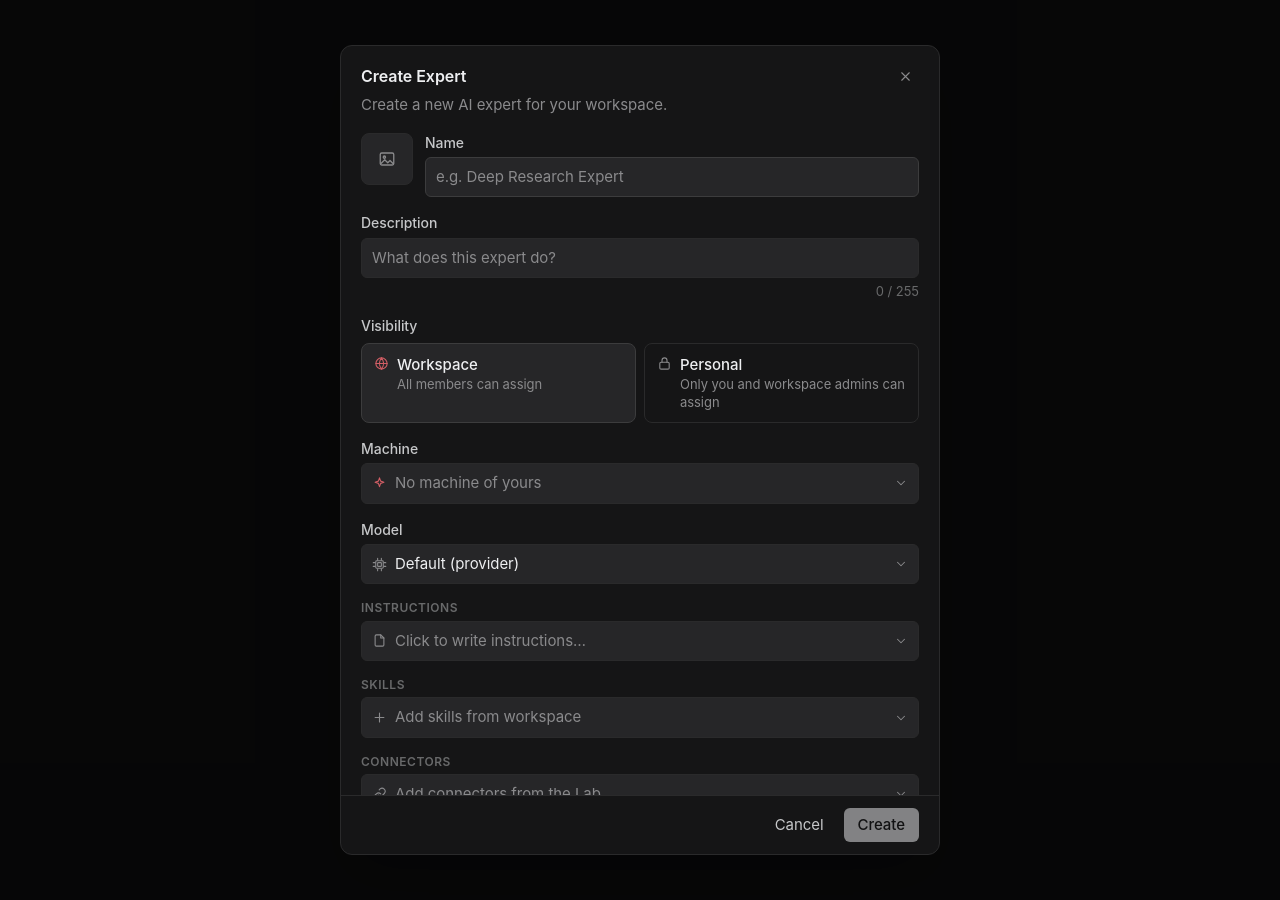
it: shows the narrowing-semantics helper copy and an empty-state nudge to Settings › Connectors
Click the button "Add connectors from the Lab": (498, 793) top-left (361, 774), bottom-right (919, 814)
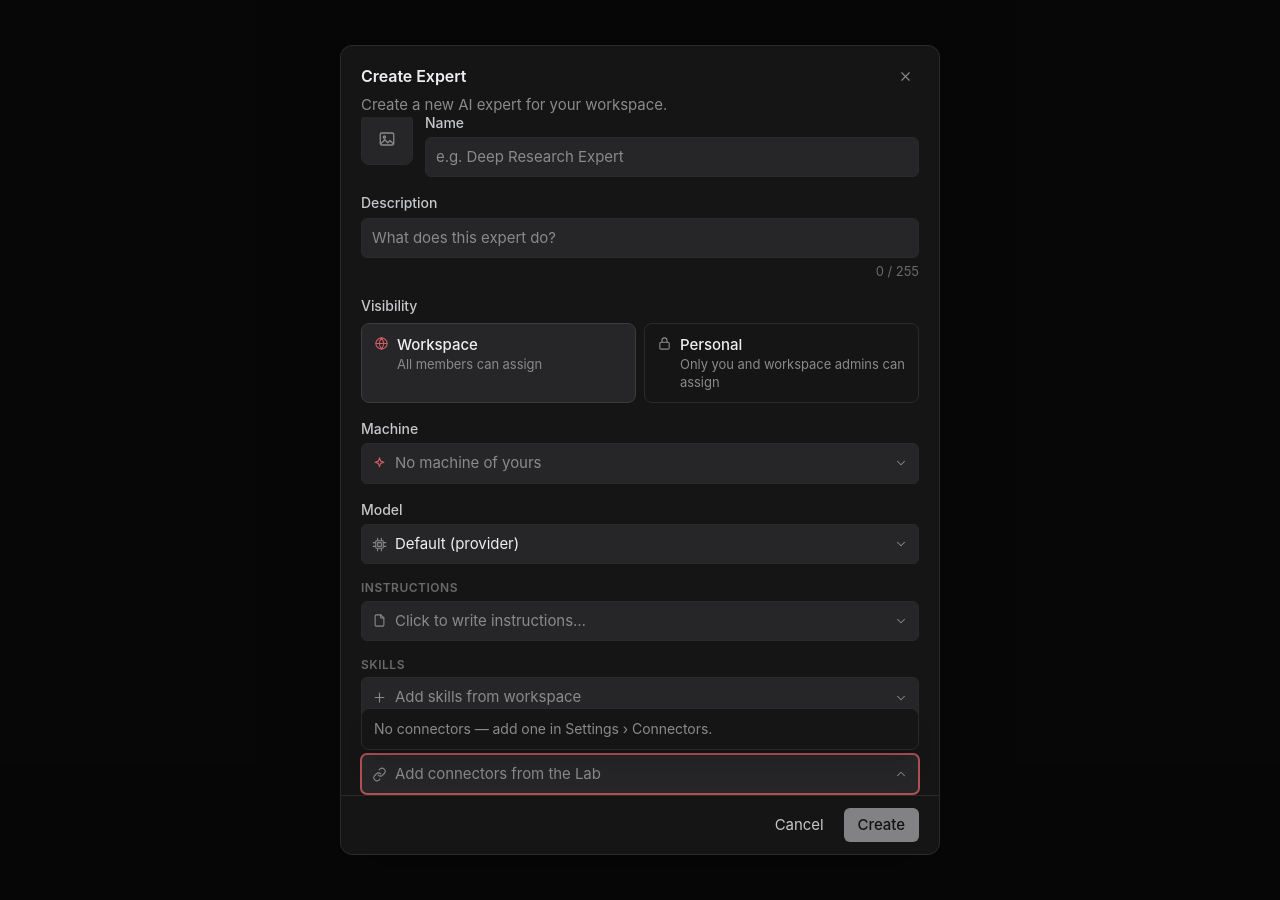
Now the text "No connectors — add one in Settings › Connectors." is shown, box top-left (374, 720), bottom-right (712, 737)
